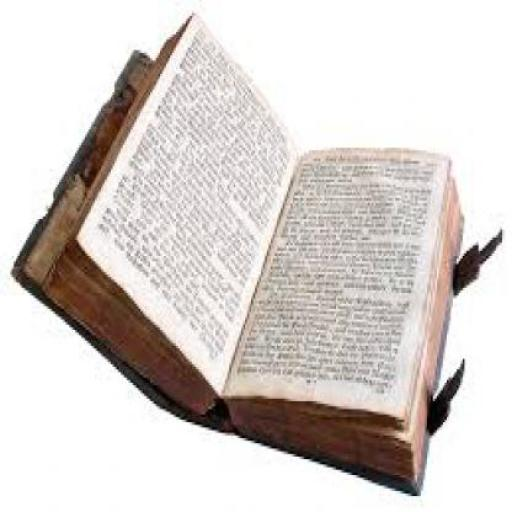paper: (10, 7, 463, 491), (74, 10, 298, 396), (219, 140, 451, 414)
